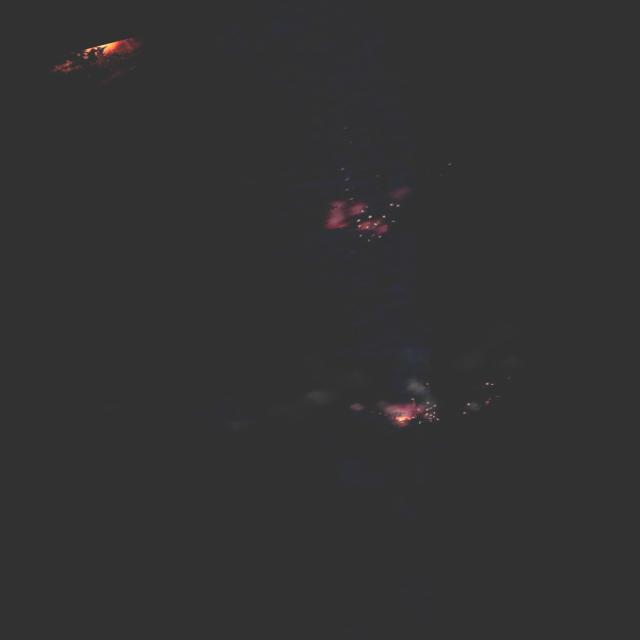fire: (46, 37, 135, 74), (382, 396, 431, 429), (352, 214, 390, 241), (457, 397, 490, 414)
smoke: (304, 367, 432, 432), (317, 184, 414, 232)
